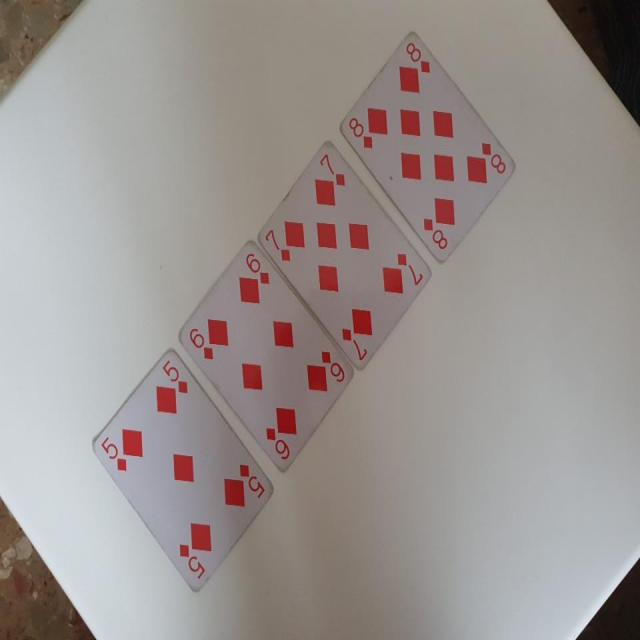5 Diamonds: (86, 341, 276, 594)
6 Diamonds: (175, 242, 354, 477)
7 Diamonds: (255, 139, 434, 376)
8 Diamonds: (337, 30, 518, 266)
